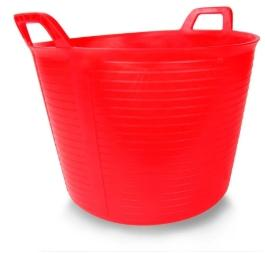SEAU: (11, 0, 263, 234)
